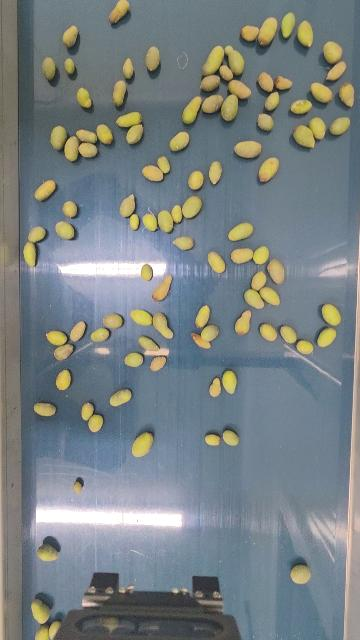Baby Potato: (201, 44, 225, 77), (257, 16, 279, 47), (182, 95, 203, 126), (152, 311, 174, 340), (293, 124, 317, 150), (131, 431, 154, 458), (257, 156, 280, 183), (234, 139, 263, 160), (322, 39, 345, 64), (226, 46, 245, 76), (227, 221, 254, 242), (221, 94, 241, 122), (152, 274, 172, 302), (290, 562, 314, 585), (310, 80, 334, 103), (227, 78, 252, 100), (320, 302, 342, 327), (267, 257, 286, 285), (33, 179, 56, 202), (108, 0, 130, 24), (234, 308, 252, 337), (297, 19, 315, 48), (30, 598, 50, 624), (201, 93, 224, 115), (181, 195, 202, 219), (116, 110, 143, 128), (109, 387, 132, 408), (243, 288, 264, 311), (137, 334, 161, 354), (111, 78, 127, 107), (280, 11, 296, 40), (317, 327, 338, 349), (329, 115, 351, 136), (169, 130, 190, 152), (259, 286, 281, 307), (221, 369, 238, 396), (308, 116, 327, 140), (339, 82, 356, 108), (50, 124, 67, 150), (157, 208, 174, 234), (54, 220, 75, 241), (327, 59, 347, 81), (130, 308, 153, 327), (207, 251, 226, 274), (194, 304, 211, 329), (125, 123, 144, 145), (96, 123, 115, 145), (144, 45, 160, 71), (64, 136, 80, 162), (36, 544, 59, 562), (289, 98, 313, 115), (33, 401, 57, 418), (230, 247, 254, 264), (253, 244, 270, 267), (62, 24, 79, 47), (45, 329, 68, 346), (119, 193, 135, 217), (41, 56, 57, 80), (70, 320, 86, 344), (259, 322, 278, 342), (279, 323, 297, 344), (257, 71, 275, 92), (190, 332, 211, 350), (23, 241, 37, 268), (208, 160, 223, 185), (199, 74, 221, 91), (142, 164, 164, 181), (264, 90, 281, 112), (76, 86, 92, 109), (257, 112, 275, 132), (78, 141, 98, 159), (240, 24, 260, 42), (124, 350, 144, 368), (187, 170, 204, 191), (53, 343, 74, 360), (55, 369, 71, 391), (142, 211, 158, 233), (75, 127, 97, 143), (27, 225, 46, 243), (222, 428, 240, 447), (89, 327, 110, 343), (251, 270, 267, 291), (149, 354, 167, 372), (174, 235, 194, 251), (103, 313, 123, 329), (88, 413, 104, 433), (201, 324, 219, 341), (62, 200, 78, 219), (48, 619, 62, 640), (209, 376, 223, 397), (275, 74, 293, 90), (296, 339, 314, 355), (170, 203, 183, 224), (34, 623, 50, 640), (80, 402, 95, 420), (156, 155, 170, 174), (122, 57, 134, 79), (204, 432, 221, 447), (219, 65, 234, 81), (140, 263, 153, 281), (63, 57, 75, 75), (129, 213, 140, 230), (72, 481, 82, 494)
